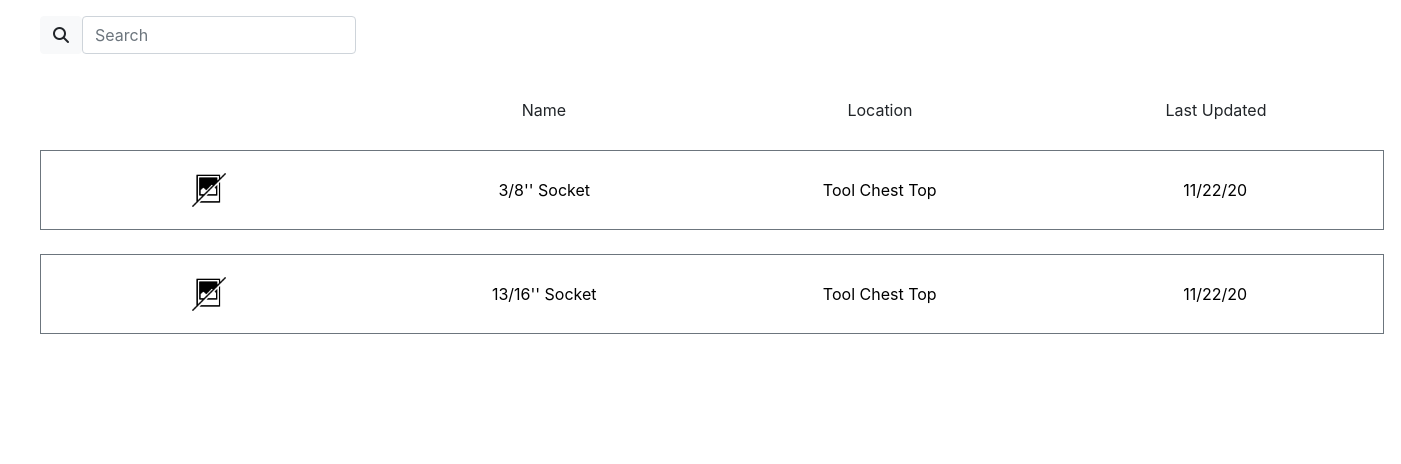
Clicking the edit button takes you to an editing page
Click the text "3/8'' Socket": (544, 190) [498, 180, 590, 200]
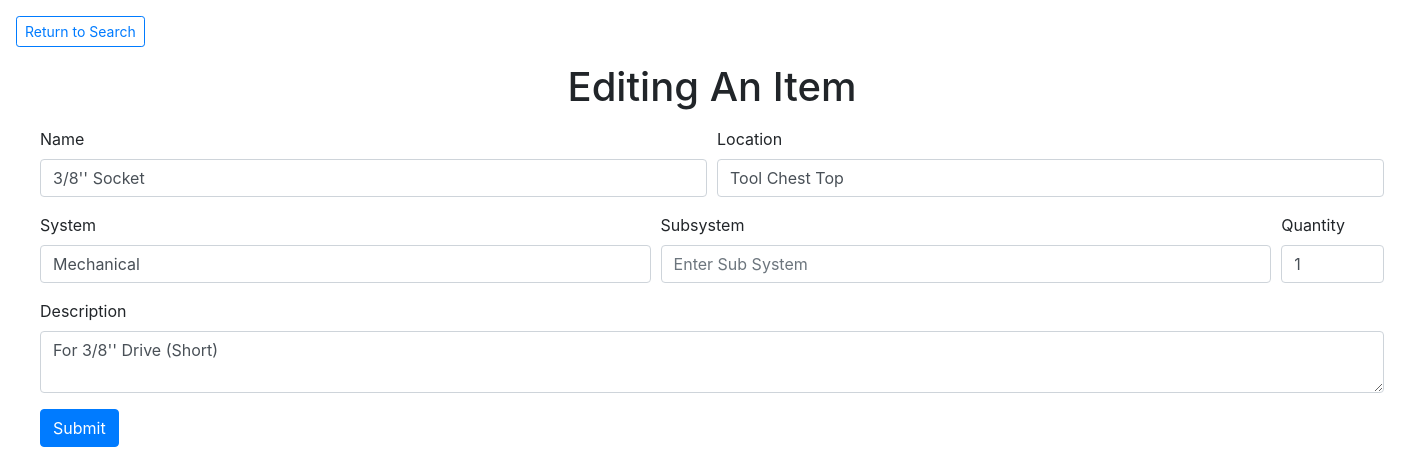
Expected: the heading "Editing An Item" is shown, [568, 62, 856, 111]
Expected: the field labelled "Name" holds "3/8'' Socket", [40, 159, 707, 197]
Expected: the field labelled "Location" holds "Tool Chest Top", [717, 159, 1384, 197]
